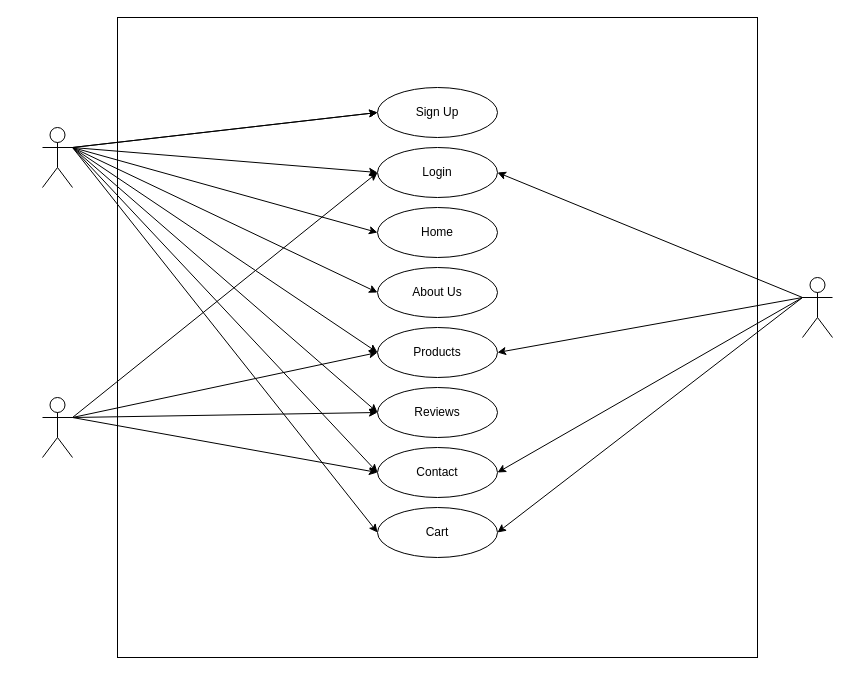
Image size: 852x675. Some labels were removed from this diagram. The shapes that lost their labels are listed below. From the top down, each one's centre as x and y in pixels, then its label:
(x=57, y=157): User
(x=817, y=307): Admin
(x=57, y=427): Nursery Owner
